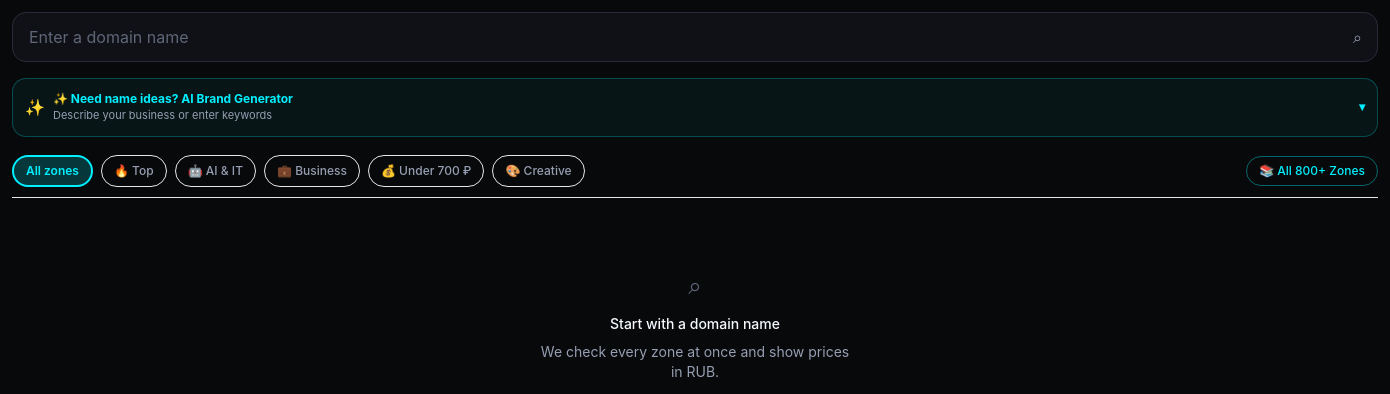
Test: SearchScreen › renders available results as buy buttons with the RUB price
This screenshot has width=1390, height=394.
Type "mysite" into the field labelled "Enter a domain name". click: [695, 37]
box: [12,12,1378,62]
Then press Enter
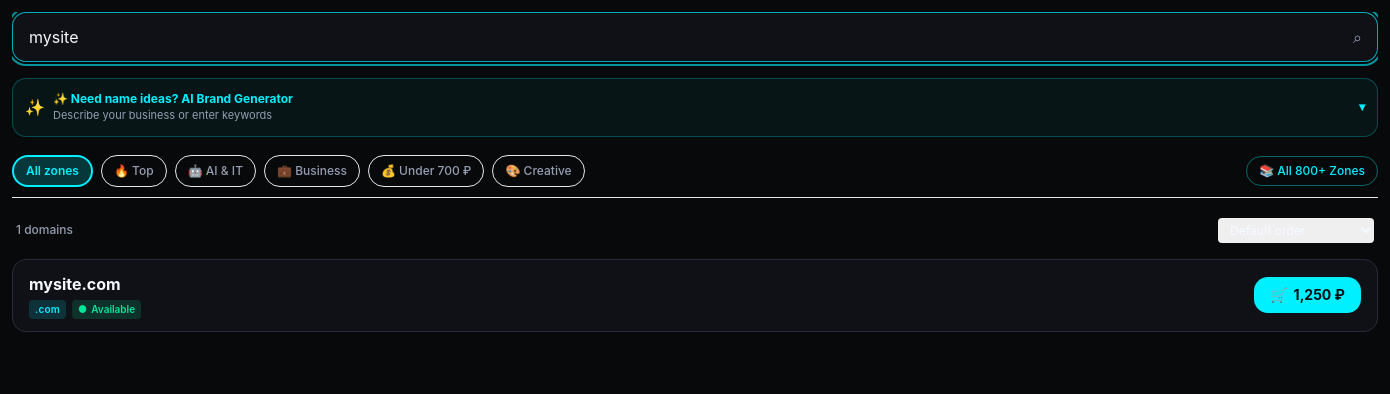
Result: the text "mysite.com" is shown at [29,274,121,294]
Result: the button "🛒 1,250 ₽" is shown at [1254,277,1361,313]
